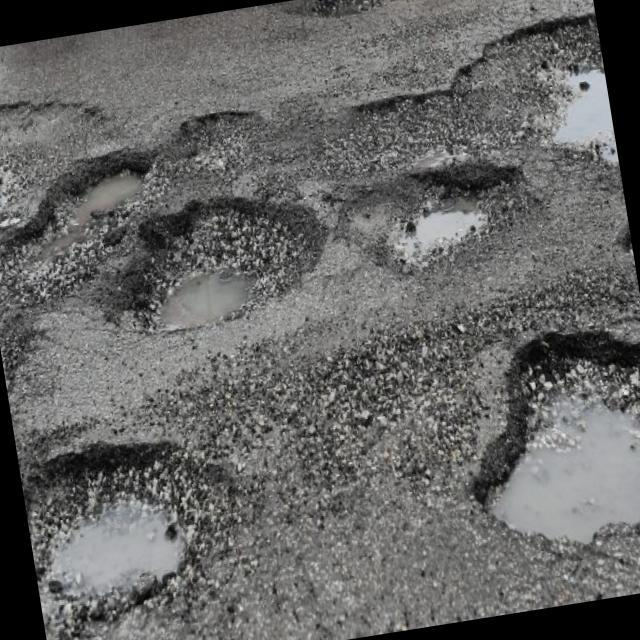Pothole: (455, 287, 640, 583), (21, 419, 241, 640), (146, 182, 301, 346), (350, 150, 518, 271), (14, 148, 152, 280), (526, 14, 620, 190), (178, 96, 254, 185), (302, 0, 400, 38)
